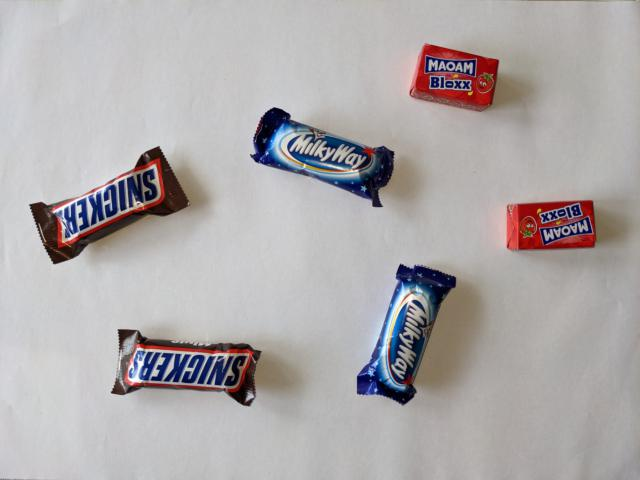MAOAM: (406, 40, 501, 114), (503, 197, 598, 254)
MilkyWay: (247, 105, 398, 209), (354, 262, 460, 408)
Snickers: (26, 144, 193, 268), (108, 326, 264, 408)
